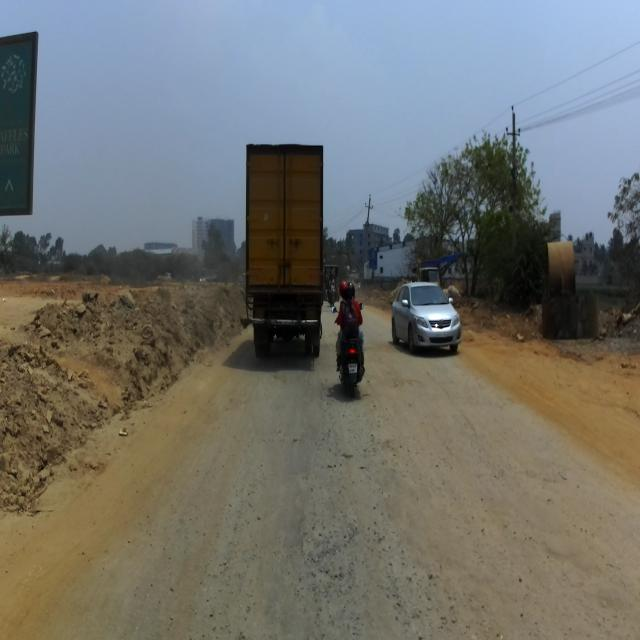car ahead at: (387, 277, 466, 360)
motorcycle ahead at: (332, 323, 366, 407)
truck ahead at: (246, 145, 329, 356)
